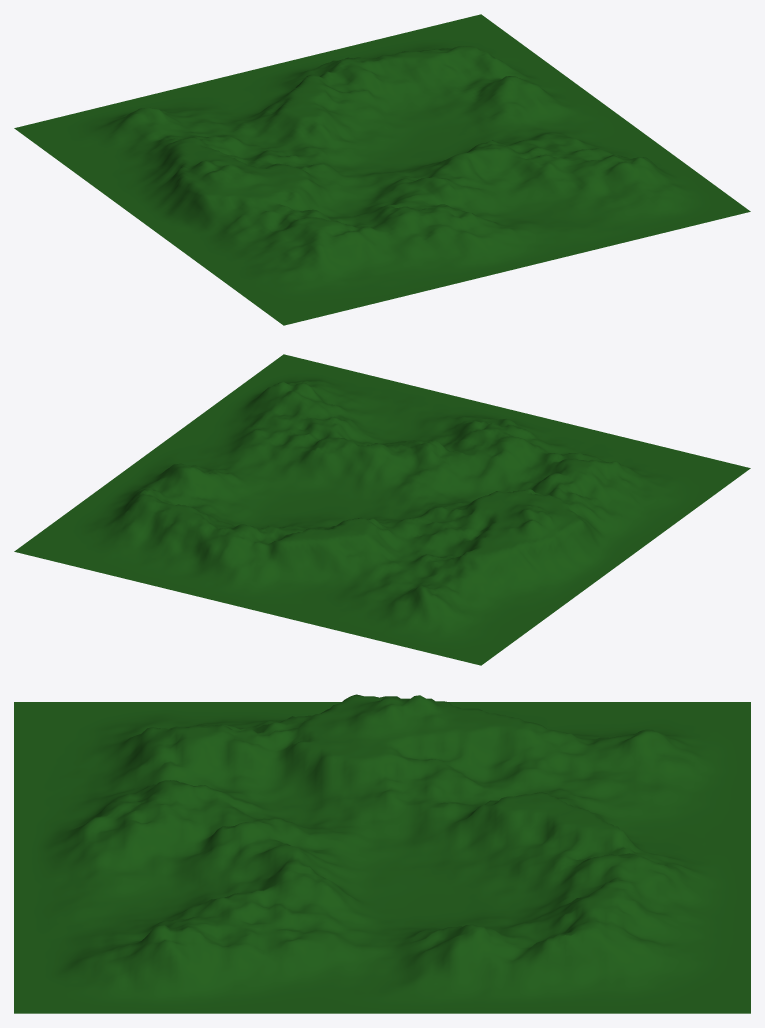
Rendered from hills.glb.
3 renders of one model, top to bottom at view 1: azimuth 30°, elevation 25°; view 2: azimuth 150°, elevation 25°; view 3: azimuth 270°, elevation 25°, orthographic. The views are drawn at different scales.
Visible parts, largest first — view 1: hills; view 2: hills; view 3: hills.
Boxes of the visible parts, left/top/right/bottom form: hills: left=14, top=14, right=750, bottom=325; hills: left=14, top=354, right=750, bottom=665; hills: left=14, top=694, right=750, bottom=1013.
Size of the model in its own units: 120 by 9.59 by 120.
